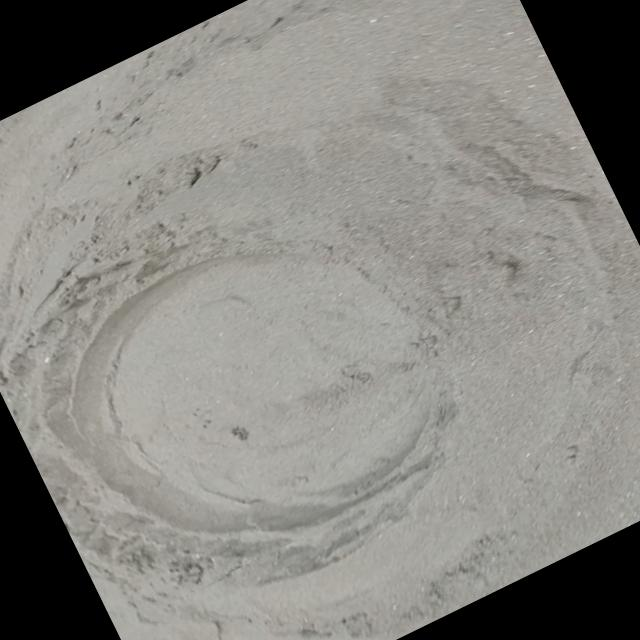C40: (58, 252, 439, 554)
